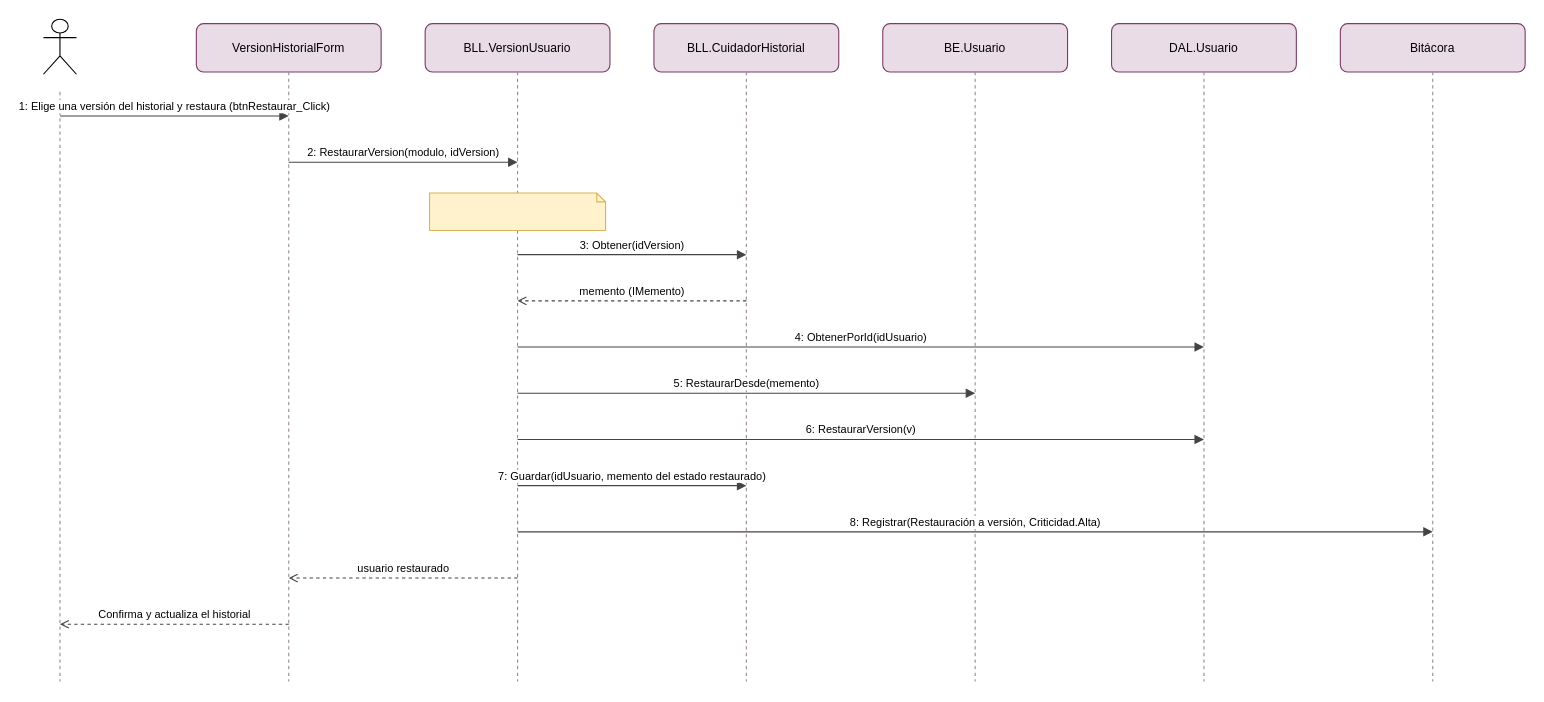
This 1544x702 diagram has some shape labels left out. The box of each missing label's shape, as (x1, y1, x2, y2) in pixels:
Administrador: (42, 18, 76, 74)
exige Administrador: (428, 192, 606, 230)
